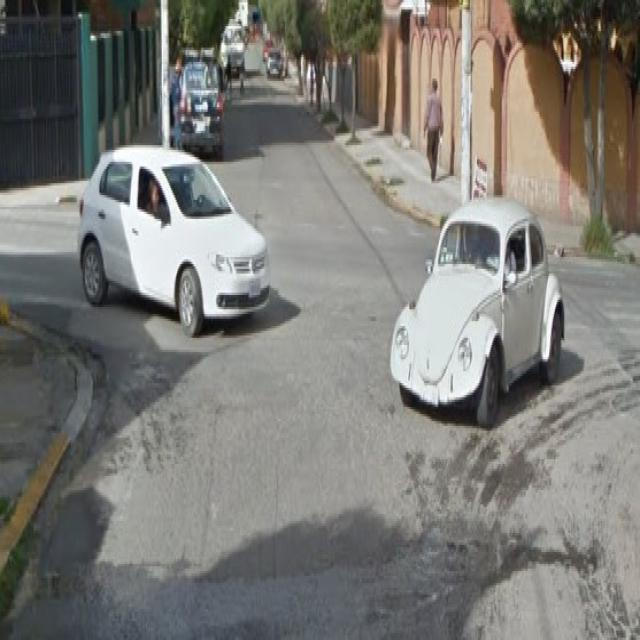cars: (392, 202, 560, 423), (80, 140, 264, 332)
